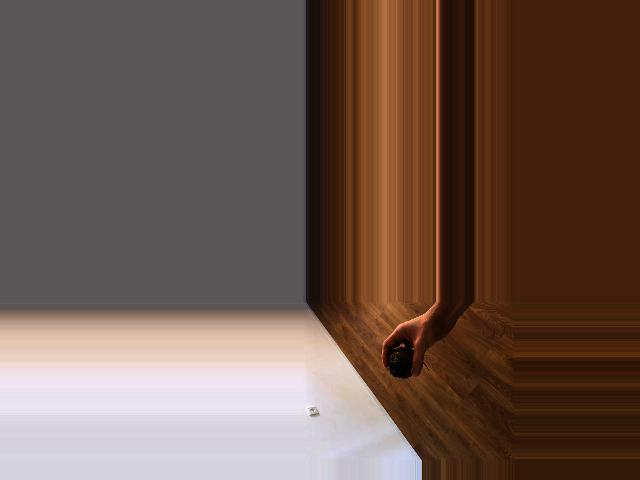beet: (387, 347, 428, 379)
